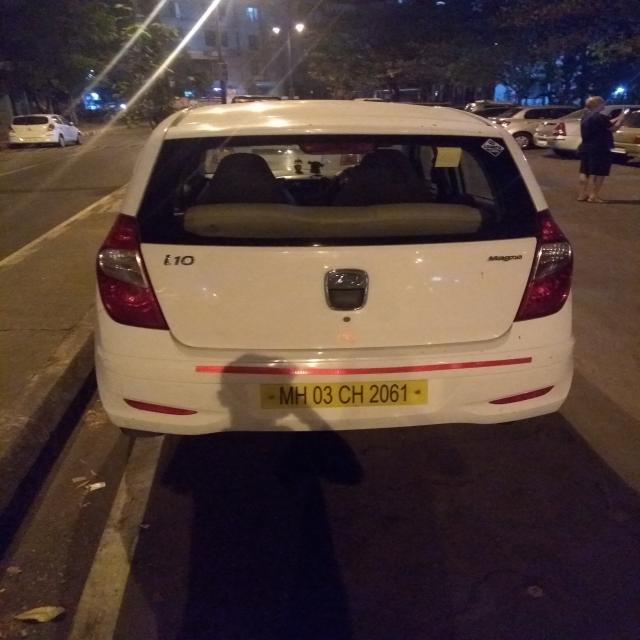Number-Plate: (264, 377, 428, 411)
